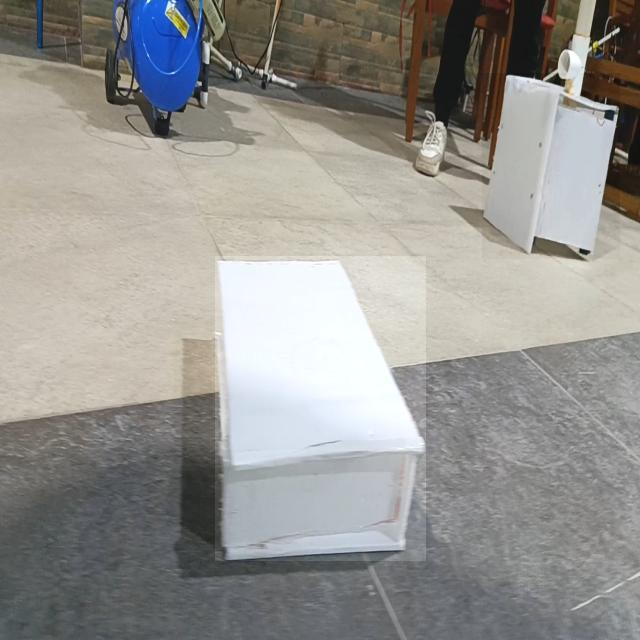Cube: (482, 73, 620, 259)
Cuboid: (215, 256, 426, 561)
